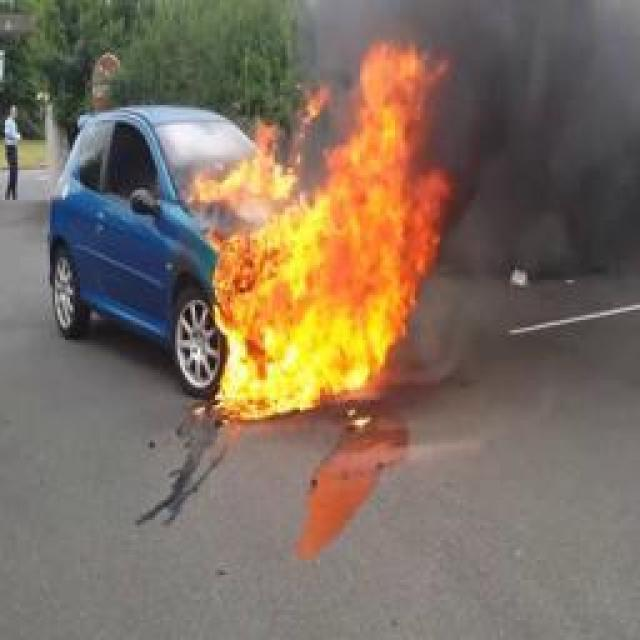Fire: (192, 41, 456, 421)
